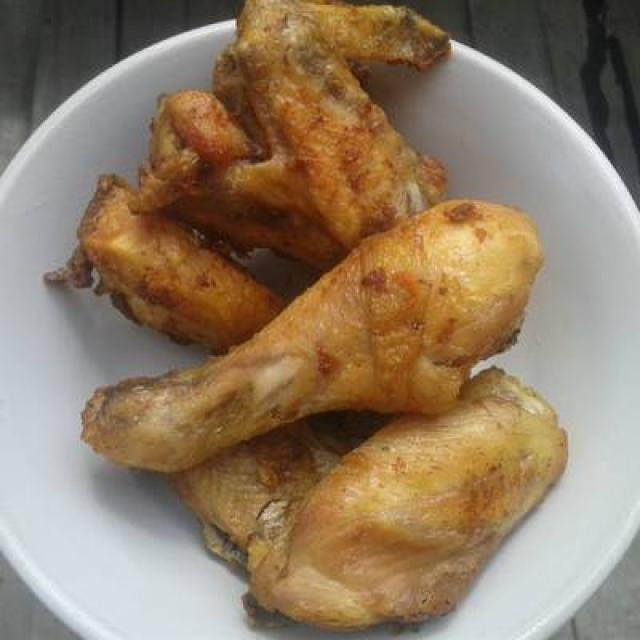Frango: (91, 202, 546, 482), (176, 363, 568, 640), (133, 0, 446, 248), (78, 180, 276, 338)
